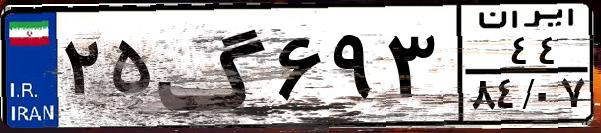0: (535, 70, 560, 125)
2: (57, 26, 110, 100)
3: (385, 28, 445, 110)
4: (537, 27, 568, 80), (508, 27, 537, 80), (495, 70, 520, 125)
5: (110, 28, 156, 98)
6: (270, 28, 330, 110)
7: (560, 70, 590, 125)
8: (470, 70, 495, 125)
9: (330, 28, 385, 110)
گ: (156, 12, 270, 120)
